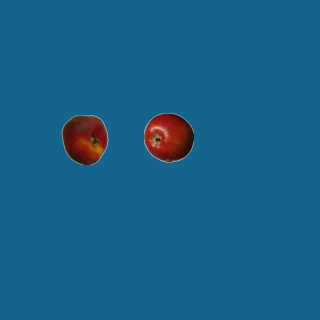Apple Braeburn: (143, 112, 193, 162)
Nectarine Flat: (59, 114, 109, 164)
